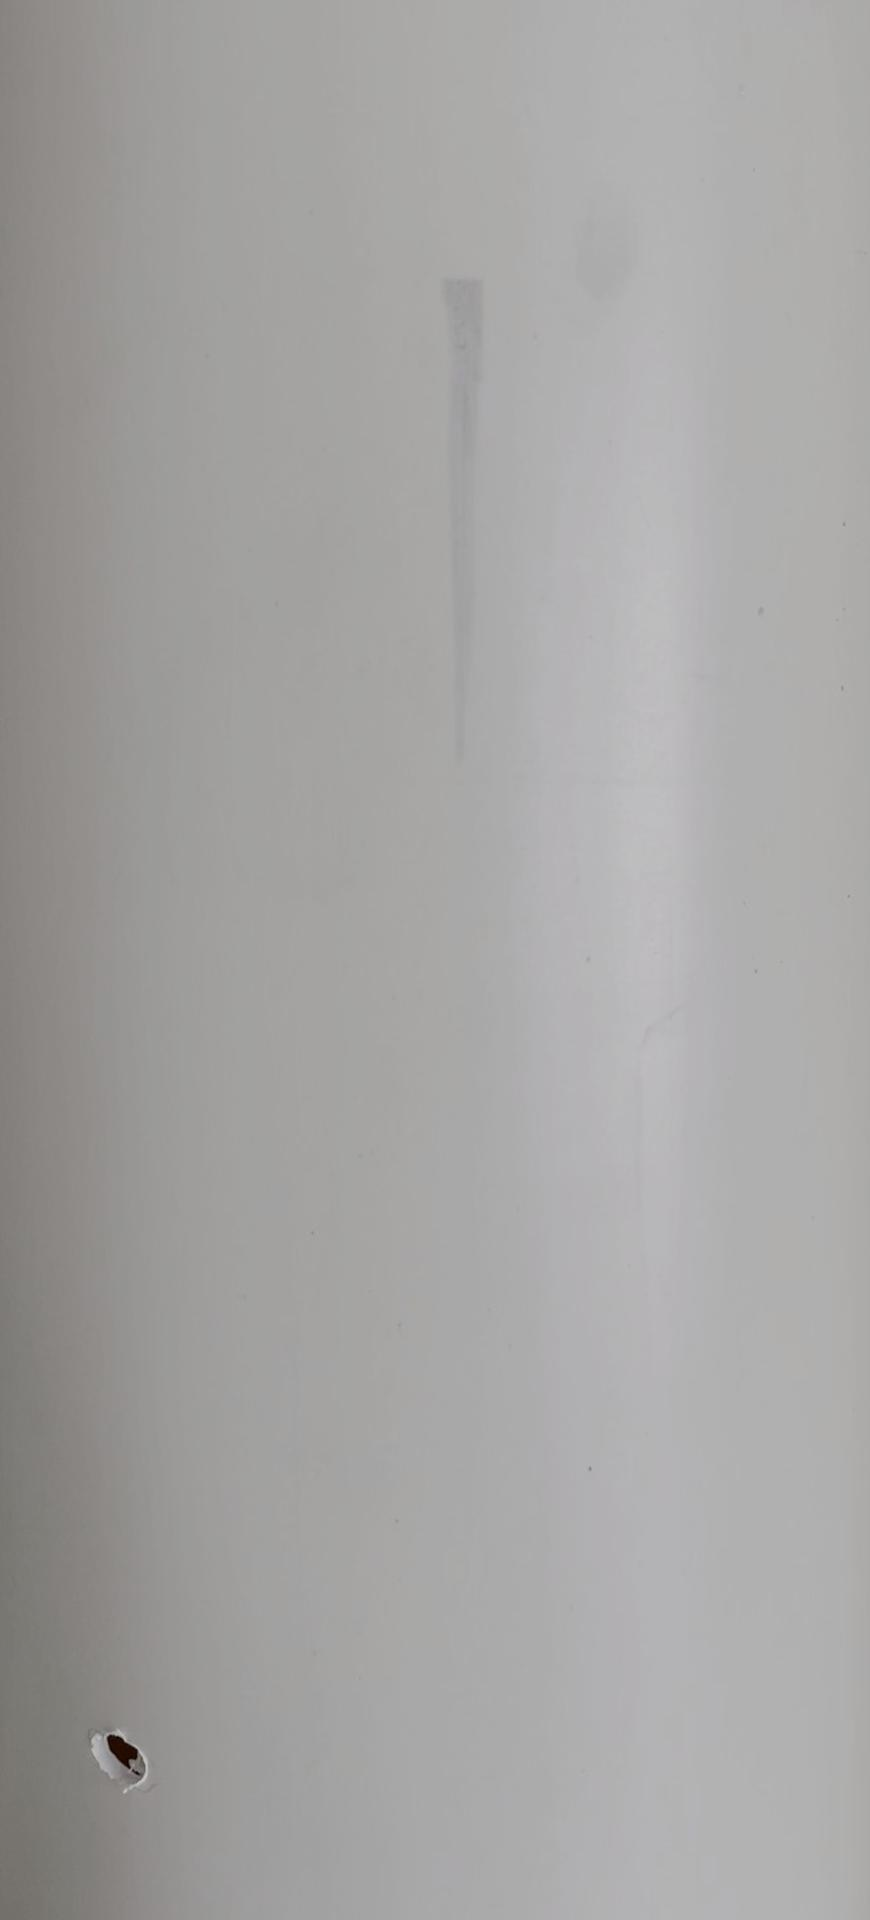kongdong: (78, 1711, 183, 1811)
